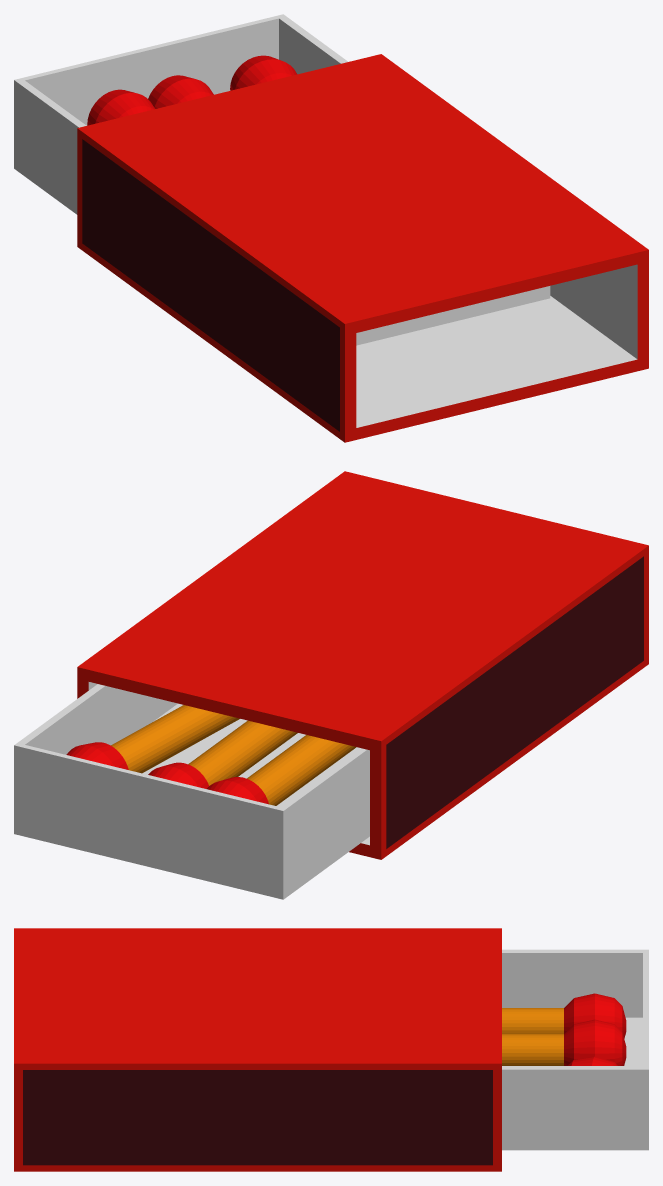
File: matches.glb
3 renders of one model, top to bottom at view 1: azimuth 30°, elevation 25°; view 2: azimuth 150°, elevation 25°; view 3: azimuth 270°, elevation 25°, orthographic. The views are drawn at different scales.
Parts seen in each view (by area): view 1: Cube; view 2: Cube; view 3: Cube.
Boxes of the visible parts, x1,y1,x2,y2 form: Cube: (14, 14, 648, 442); Cube: (14, 471, 648, 899); Cube: (14, 928, 648, 1171).
Size of the model in its own units: 3.17 by 1.18 by 6.28.
